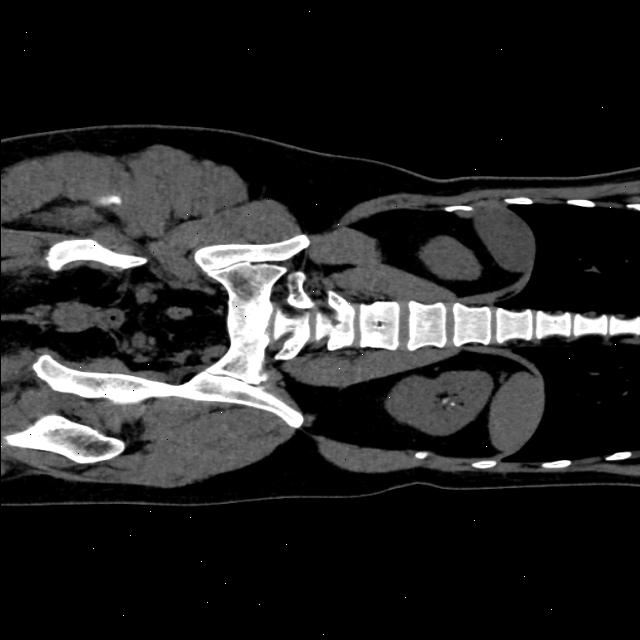kidneystone: (440, 396, 462, 408)
